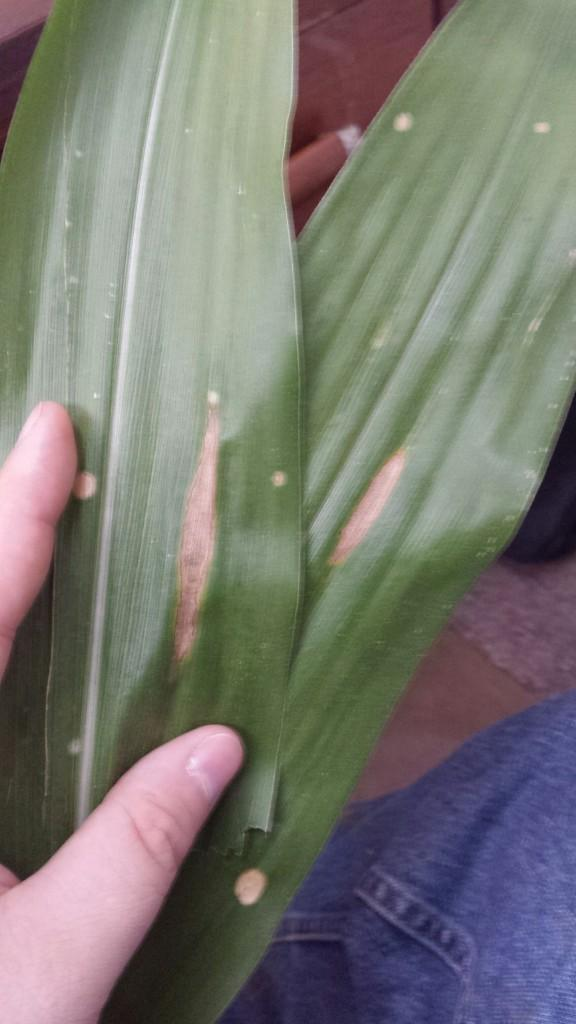Corn leaf blight: (294, 13, 571, 717), (77, 4, 297, 714)
